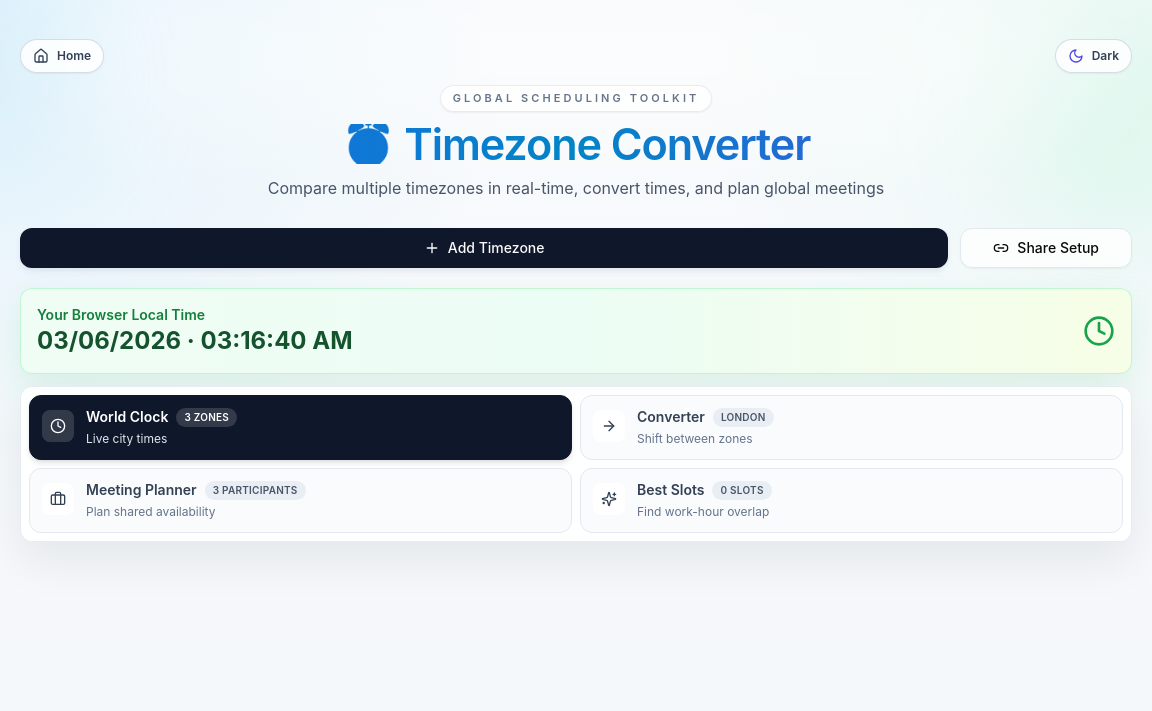
Test: TimezoneConverter Component - Hardcoded Data Version › shows meeting app integration buttons
This screenshot has width=1152, height=711.
Click the tab "Meeting Planner 3 participants Plan shared availability". click: [300, 500]
box: [29, 468, 572, 532]
(page scrolled)
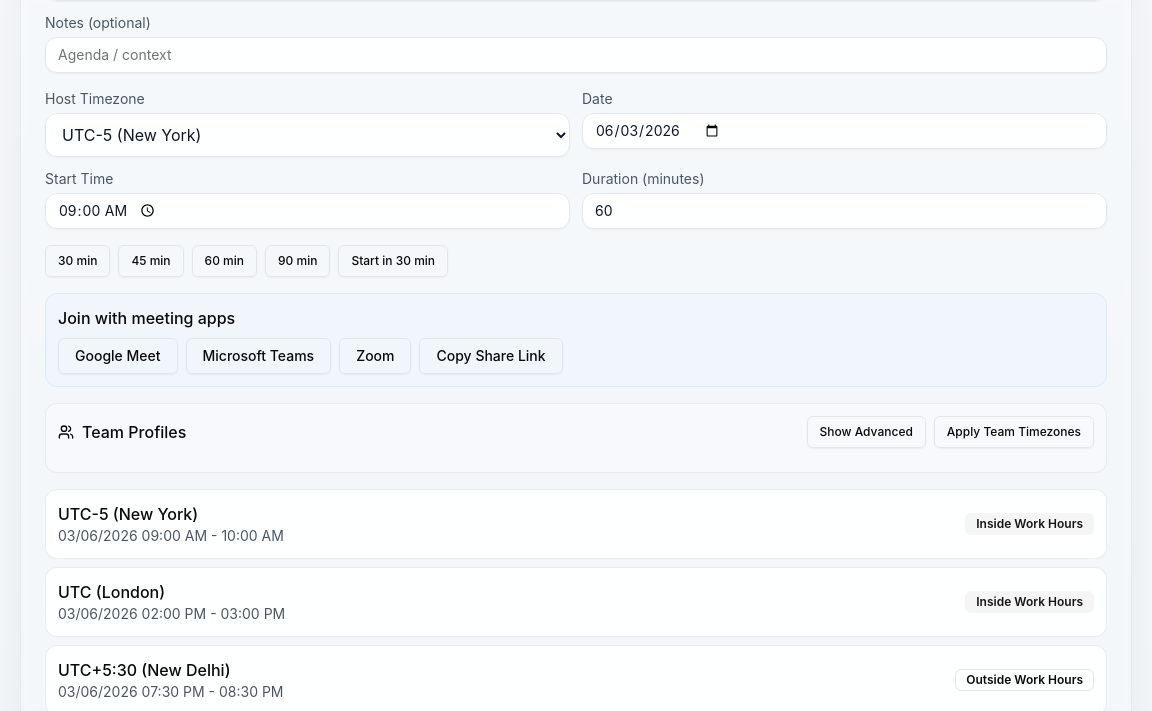
Result: the button "Google Meet" is shown at [58, 338, 178, 374]
Result: the button "Microsoft Teams" is shown at [186, 338, 331, 374]
Result: the button "Zoom" is shown at [339, 338, 412, 374]
